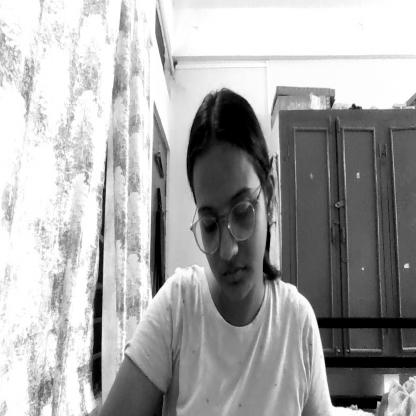Distracted: (186, 85, 270, 312)
